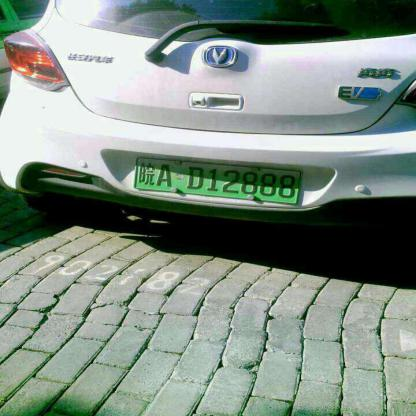lp: (133, 157, 304, 202)
